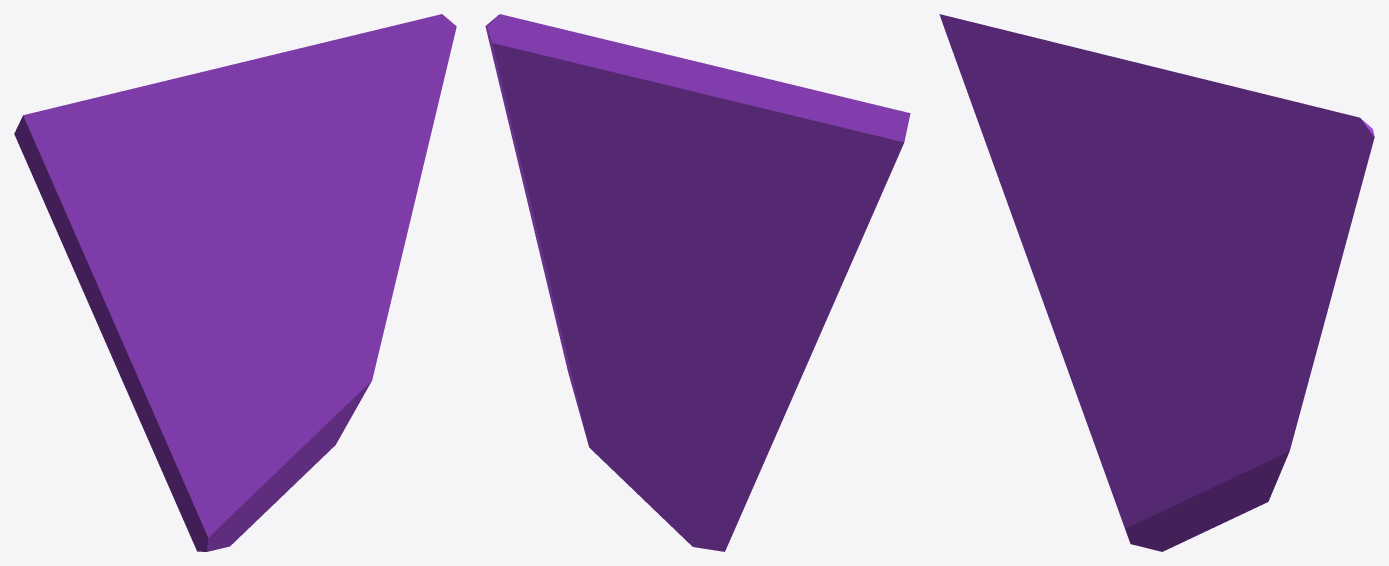
File: Glass_83_0_2_chunks.fbx
3 views of the same model, side by side, from view 1: azimuth 30°, elevation 25°; view 2: azimuth 150°, elevation 25°; view 3: azimuth 330°, elevation 25° (orthographic). The views are drawn at different scales.
Parts seen in each view (by area): view 1: Glass_83_0_2_9, Glass_83_0_2_5, Glass_83_0_2_1, Glass_83_0_2_11, Glass_83_0_2_4, Glass_83_0_2_3, Glass_83_0_2_13, Glass_83_0_2_6, Glass_83_0_2_2, Glass_83_0_2_14, Glass_83_0_2_8, Glass_83_0_2_12 (+3 smaller); view 2: Glass_83_0_2_9, Glass_83_0_2_1, Glass_83_0_2_2, Glass_83_0_2_5, Glass_83_0_2_13, Glass_83_0_2_14, Glass_83_0_2_8, Glass_83_0_2_4, Glass_83_0_2_10, Glass_83_0_2_6, Glass_83_0_2_11, Glass_83_0_2_3 (+3 smaller); view 3: Glass_83_0_2_9, Glass_83_0_2_5, Glass_83_0_2_1, Glass_83_0_2_11, Glass_83_0_2_2, Glass_83_0_2_4, Glass_83_0_2_13, Glass_83_0_2_6, Glass_83_0_2_14, Glass_83_0_2_3, Glass_83_0_2_8, Glass_83_0_2_12 (+3 smaller).
Part boxes in pixels (bbox=[...]): Glass_83_0_2_9: bbox=[14, 124, 222, 346]; Glass_83_0_2_5: bbox=[327, 14, 456, 191]; Glass_83_0_2_1: bbox=[107, 300, 255, 457]; Glass_83_0_2_11: bbox=[216, 80, 350, 292]; Glass_83_0_2_4: bbox=[234, 287, 371, 404]; Glass_83_0_2_3: bbox=[156, 392, 268, 551]; Glass_83_0_2_13: bbox=[19, 91, 205, 183]; Glass_83_0_2_6: bbox=[333, 162, 424, 381]; Glass_83_0_2_2: bbox=[195, 391, 365, 551]; Glass_83_0_2_14: bbox=[224, 32, 366, 136]; Glass_83_0_2_8: bbox=[291, 159, 369, 336]; Glass_83_0_2_12: bbox=[179, 120, 285, 197]; Glass_83_0_2_9: bbox=[717, 127, 907, 350]; Glass_83_0_2_1: bbox=[664, 301, 812, 460]; Glass_83_0_2_2: bbox=[571, 385, 727, 551]; Glass_83_0_2_5: bbox=[485, 14, 603, 177]; Glass_83_0_2_13: bbox=[714, 89, 910, 192]; Glass_83_0_2_14: bbox=[573, 32, 718, 152]; Glass_83_0_2_8: bbox=[564, 156, 646, 340]; Glass_83_0_2_4: bbox=[569, 285, 685, 395]; Glass_83_0_2_10: bbox=[634, 182, 718, 313]; Glass_83_0_2_6: bbox=[517, 160, 597, 374]; Glass_83_0_2_11: bbox=[584, 95, 681, 245]; Glass_83_0_2_3: bbox=[683, 420, 764, 545]; Glass_83_0_2_9: bbox=[944, 29, 1139, 301]; Glass_83_0_2_5: bbox=[1244, 99, 1374, 261]; Glass_83_0_2_1: bbox=[1039, 292, 1172, 410]; Glass_83_0_2_11: bbox=[1133, 139, 1267, 305]; Glass_83_0_2_2: bbox=[1130, 425, 1285, 551]; Glass_83_0_2_4: bbox=[1151, 303, 1289, 458]; Glass_83_0_2_13: bbox=[939, 14, 1122, 158]; Glass_83_0_2_6: bbox=[1250, 257, 1341, 451]; Glass_83_0_2_14: bbox=[1141, 70, 1283, 163]; Glass_83_0_2_3: bbox=[1081, 406, 1186, 543]; Glass_83_0_2_8: bbox=[1208, 207, 1287, 387]; Glass_83_0_2_12: bbox=[1096, 117, 1202, 191].
Bounding box in the file's own units: 896 × 963 × 27.2.
